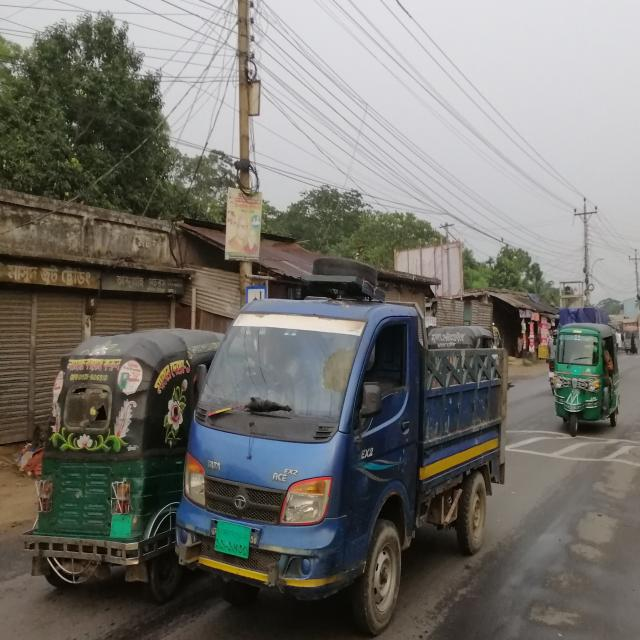CNG: (549, 321, 624, 438)
Pick-up-van: (180, 291, 522, 637)
